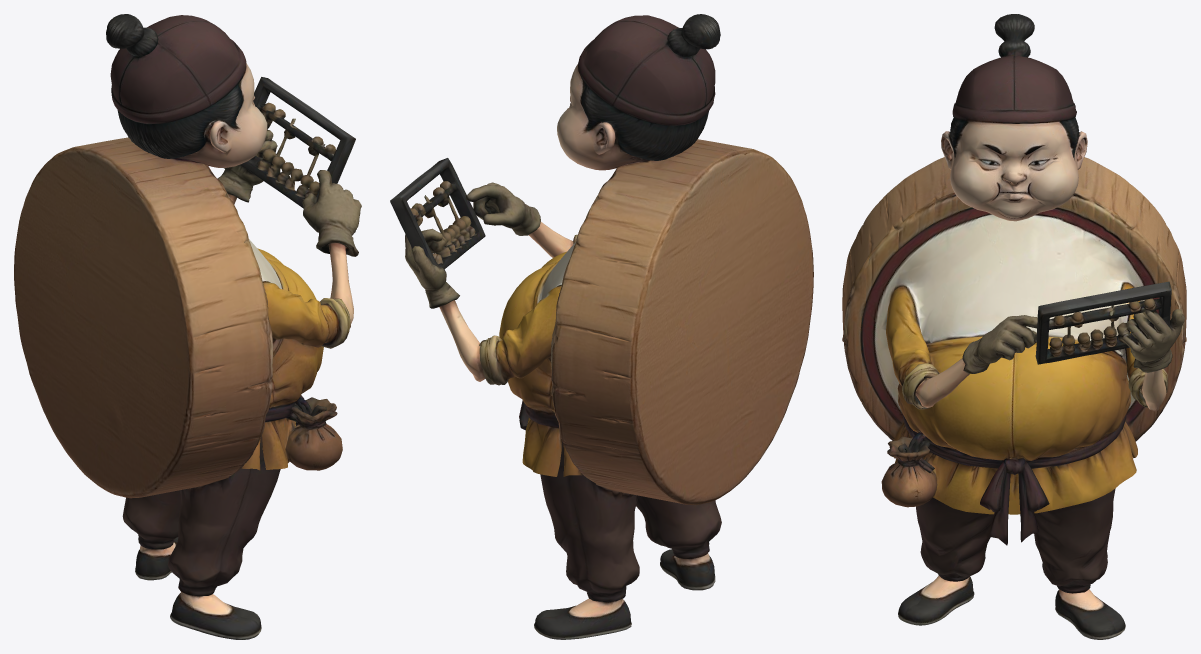
The model's file is p_b1p_qianwandou.glb.
3 renders of one model, left to right at view 1: azimuth 30°, elevation 25°; view 2: azimuth 150°, elevation 25°; view 3: azimuth 270°, elevation 25°, orthographic. The views are drawn at different scales.
Visible parts, largest first — view 1: tripo_node_c9b3bab9-4dec-4edf-a80a-b7fa15abf2bd; view 2: tripo_node_c9b3bab9-4dec-4edf-a80a-b7fa15abf2bd; view 3: tripo_node_c9b3bab9-4dec-4edf-a80a-b7fa15abf2bd.
Part boxes in pixels (box(x1,y1,x2,y2)): tripo_node_c9b3bab9-4dec-4edf-a80a-b7fa15abf2bd: box(14, 14, 361, 639); tripo_node_c9b3bab9-4dec-4edf-a80a-b7fa15abf2bd: box(390, 14, 813, 639); tripo_node_c9b3bab9-4dec-4edf-a80a-b7fa15abf2bd: box(842, 14, 1186, 639).
Bounding box in the file's own units: 0.4749 × 0.9794 × 0.5343.
Materials: 1 (1 with a texture image).
